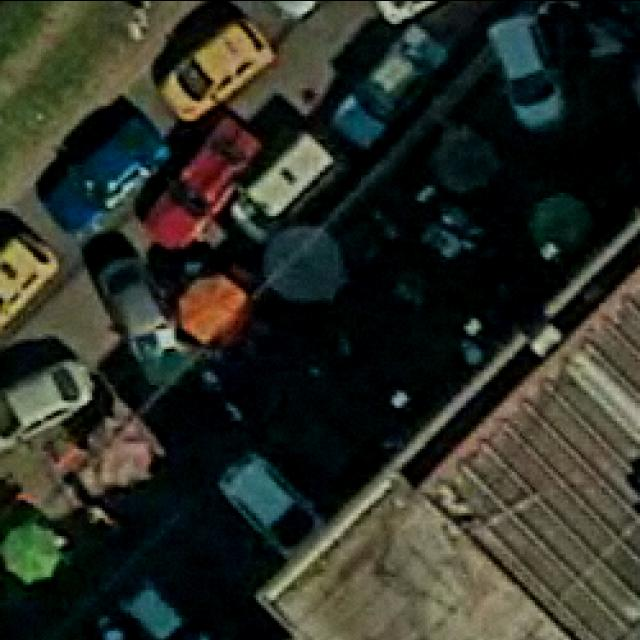vendedor_ambulante: (258, 222, 348, 306), (173, 270, 257, 354), (1, 512, 66, 586), (524, 184, 590, 256)
